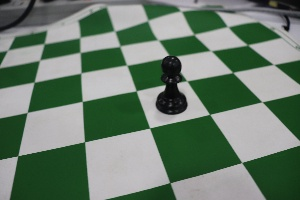black_pawn: (145, 39, 190, 120)
